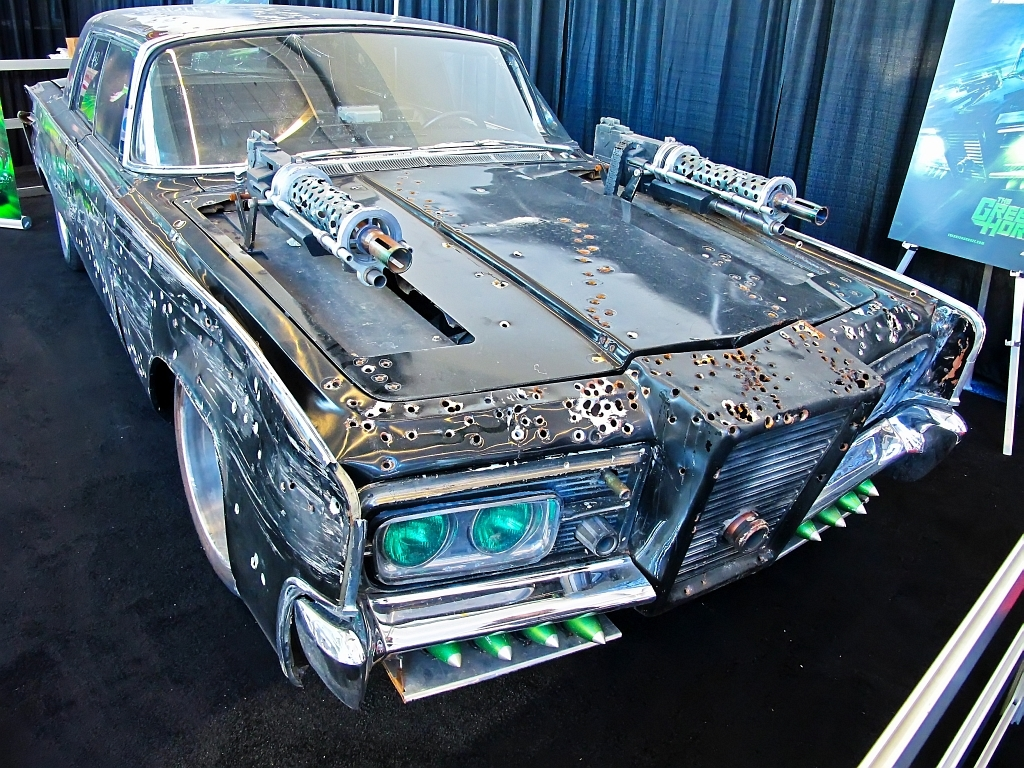Car: (0, 0, 993, 767)
